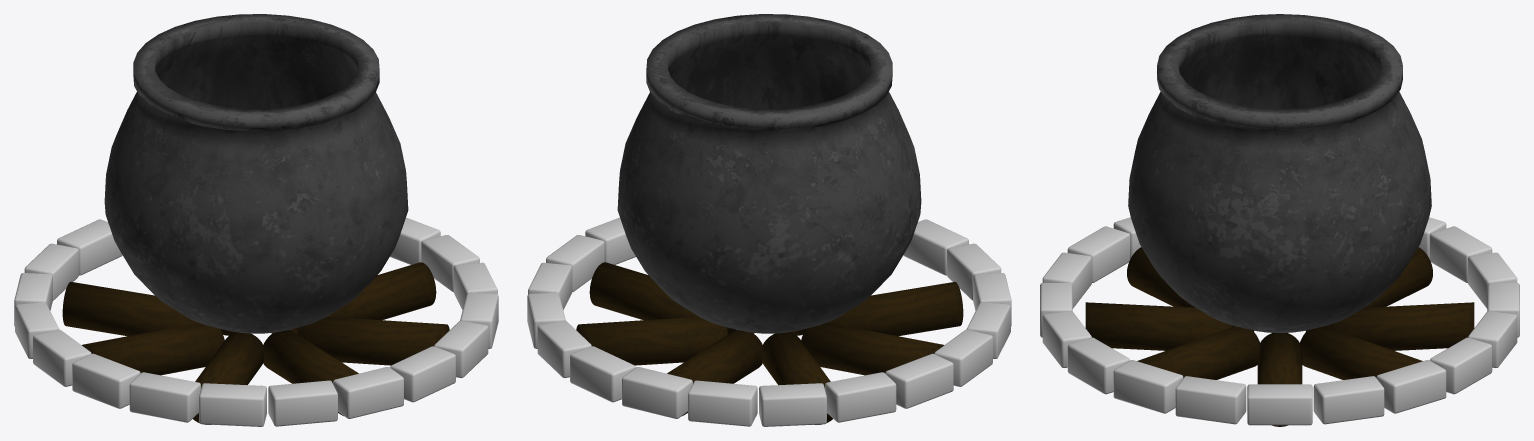
The model's file is Cauldron.fbx.
3 renders of one model, left to right at view 1: azimuth 30°, elevation 25°; view 2: azimuth 150°, elevation 25°; view 3: azimuth 270°, elevation 25°, orthographic.
Parts seen in each view (by area): view 1: Cauldron, Bricks, Logs; view 2: Cauldron, Bricks, Logs; view 3: Cauldron, Bricks, Logs.
Part boxes in pixels (box(x1,y1,x2,y2)): Cauldron: box(104, 14, 408, 333); Bricks: box(14, 217, 498, 426); Logs: box(62, 262, 449, 424); Cauldron: box(617, 14, 921, 333); Bricks: box(527, 217, 1011, 426); Logs: box(576, 262, 963, 424); Cauldron: box(1128, 14, 1431, 333); Bricks: box(1040, 217, 1519, 425); Logs: box(1085, 247, 1474, 426).
Bounding box in the file's own units: 310 × 204 × 310.
